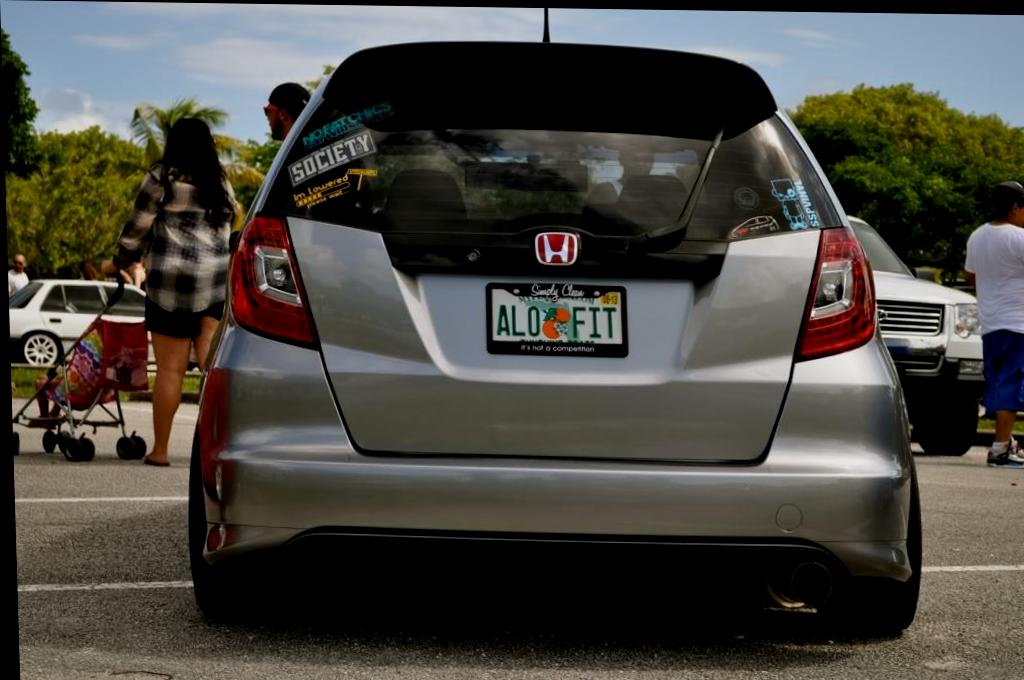License_Plate: (474, 264, 645, 378)
